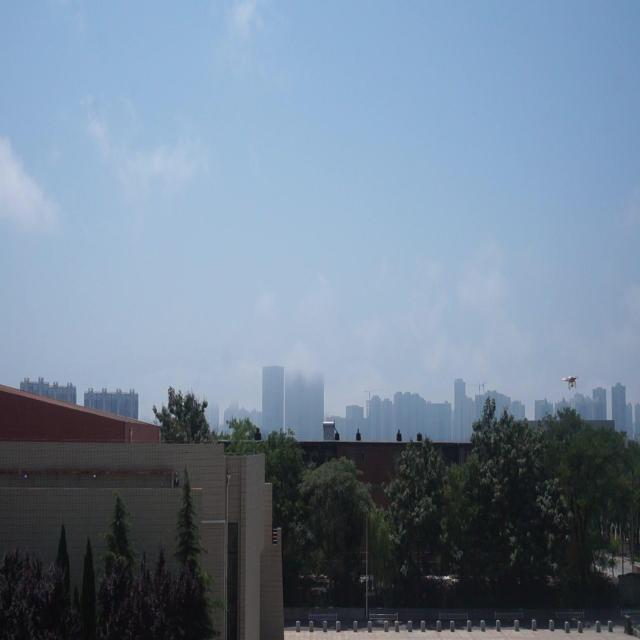drone: (562, 372, 579, 390)
